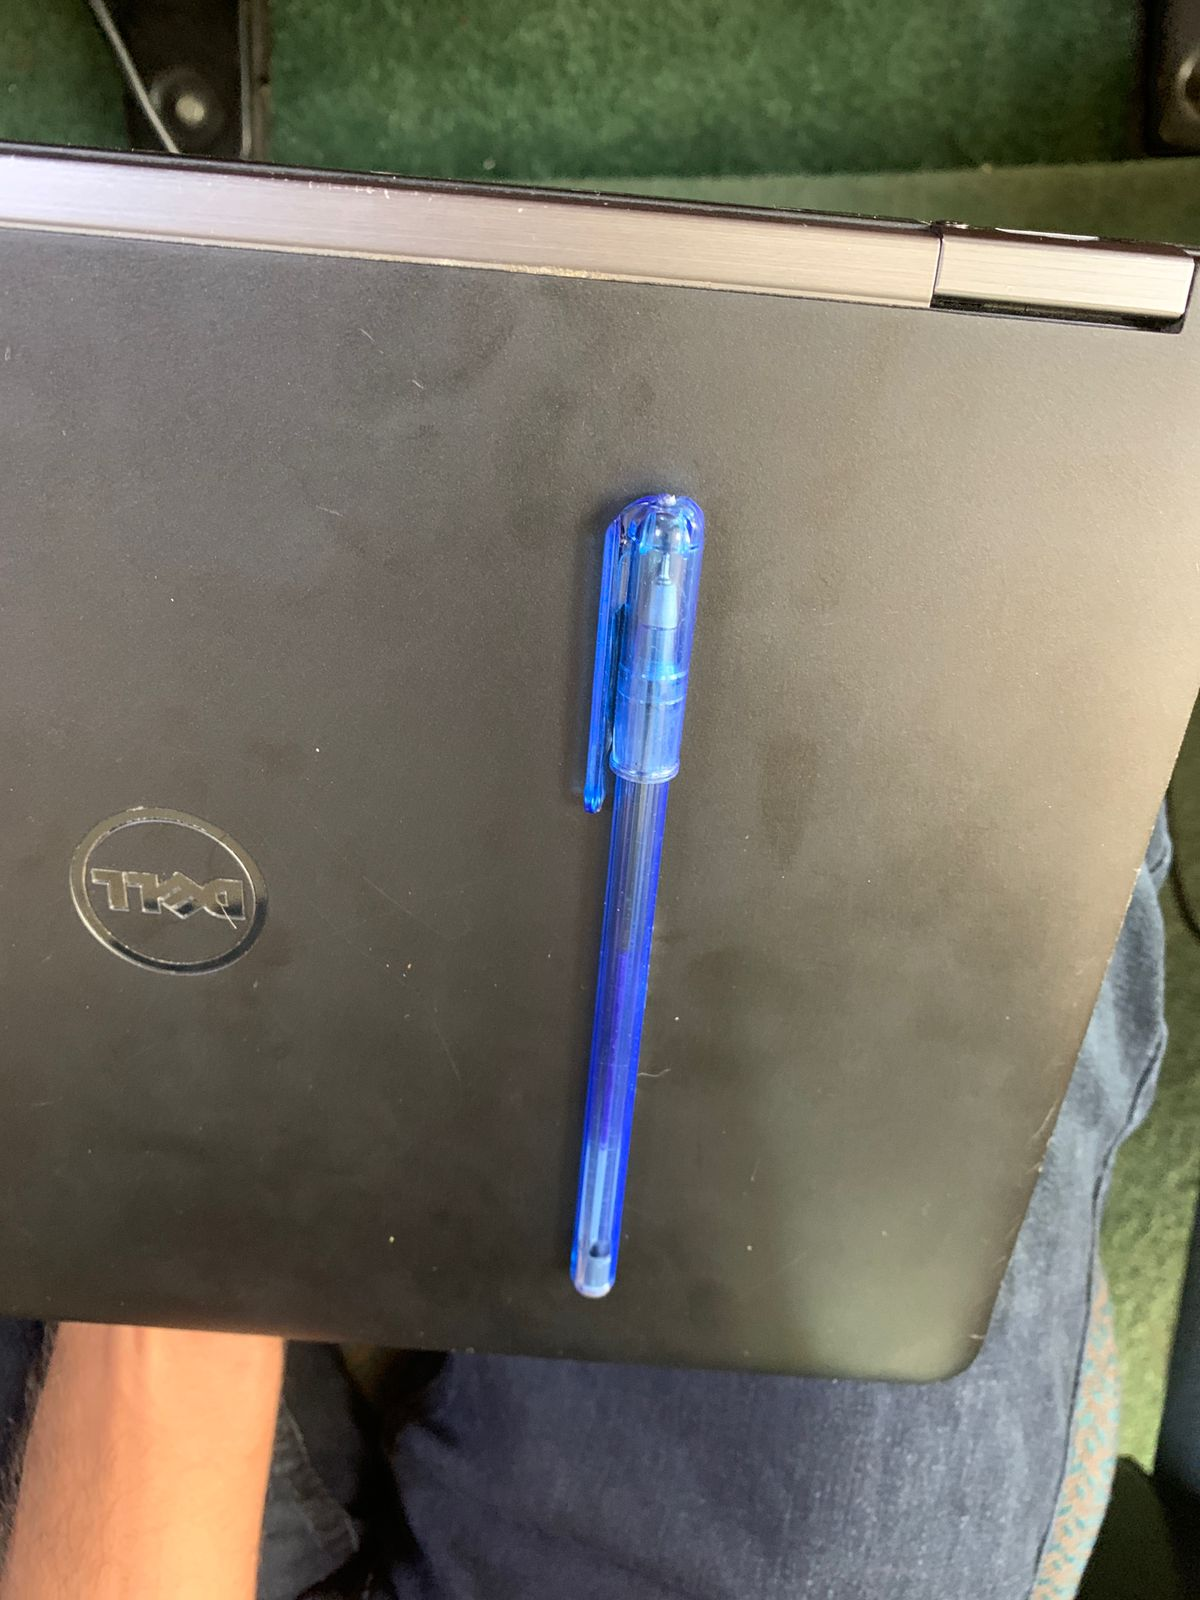pen: (504, 430, 746, 1395)
